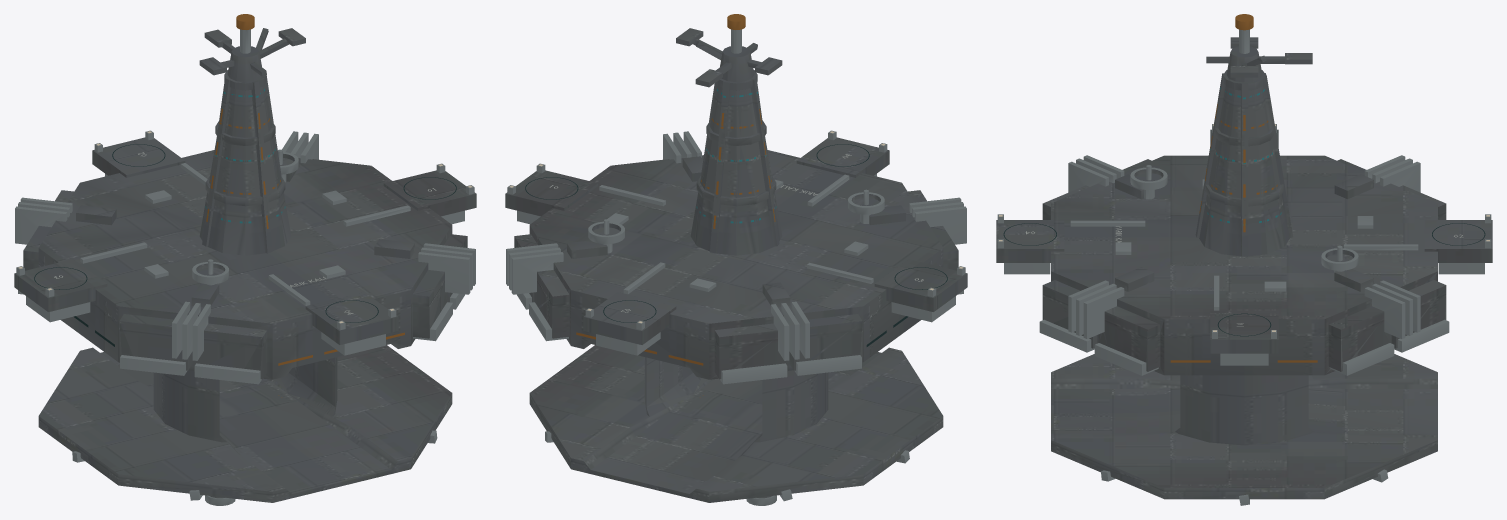
The model's file is yarik_kalbi.glb.
3 renders of one model, left to right at view 1: azimuth 30°, elevation 25°; view 2: azimuth 150°, elevation 25°; view 3: azimuth 270°, elevation 25°, orthographic.
Parts seen in each view (by area): view 1: lod0; view 2: lod0; view 3: lod0.
Part boxes in pixels (bbox=[...]): lod0: bbox=[14, 14, 476, 505]; lod0: bbox=[505, 14, 967, 505]; lod0: bbox=[996, 14, 1492, 505].
Size of what is drawn, in the model's own units: 320 by 316 by 320.
Materials: 1 (1 with a texture image).
